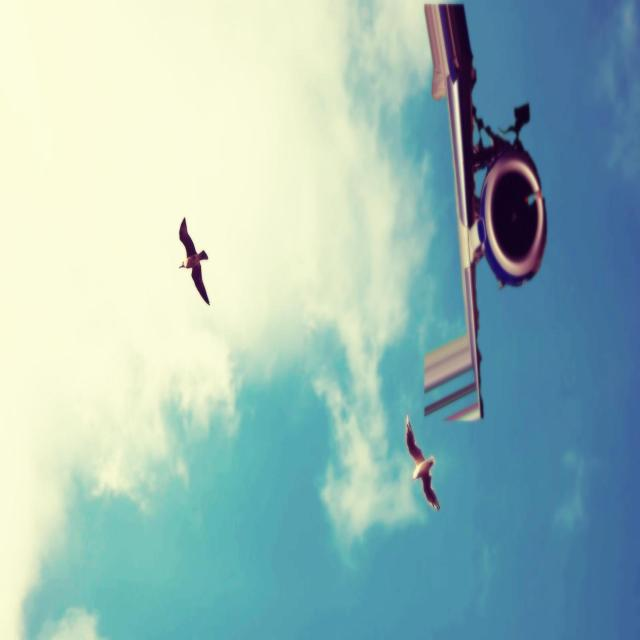airplane: (422, 2, 547, 422)
